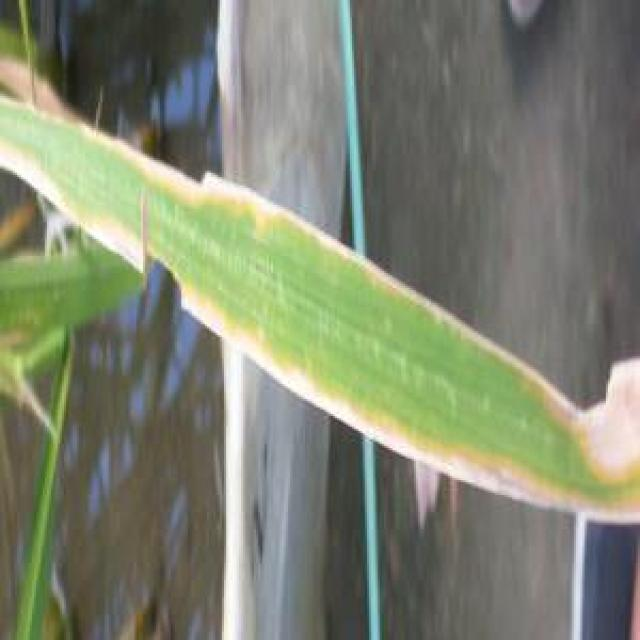leaf blight: (2, 100, 542, 510), (548, 346, 640, 522)
